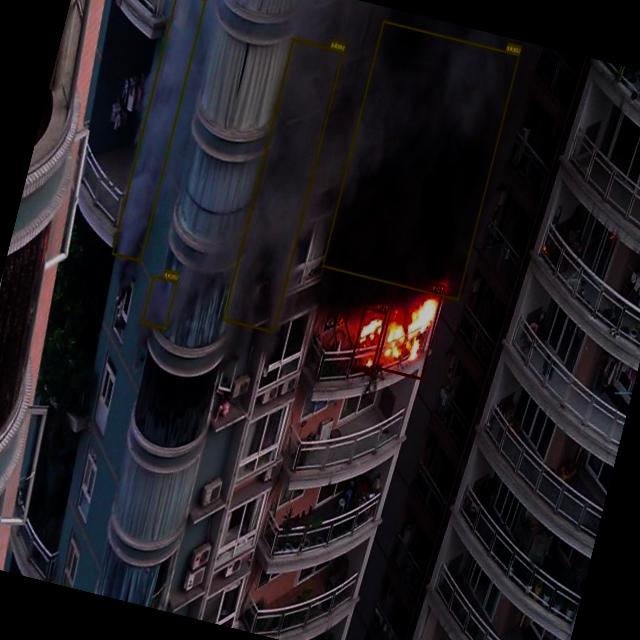fire: (376, 282, 442, 379), (348, 306, 388, 373)
smoke: (322, 18, 520, 300), (222, 38, 344, 332), (111, 0, 207, 261), (141, 274, 177, 329)
